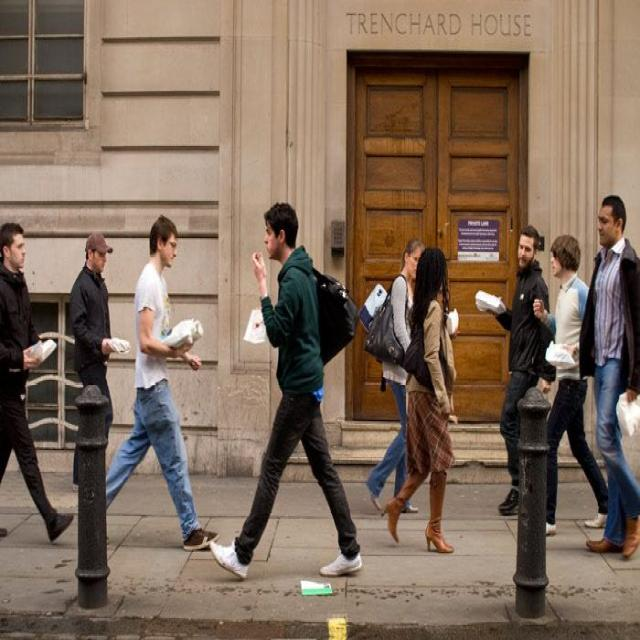door: (346, 54, 523, 424)
person: (209, 201, 363, 579), (104, 214, 220, 550), (381, 246, 458, 554), (0, 222, 73, 542), (532, 234, 609, 535), (578, 194, 639, 557), (483, 224, 555, 515), (68, 230, 130, 487)
